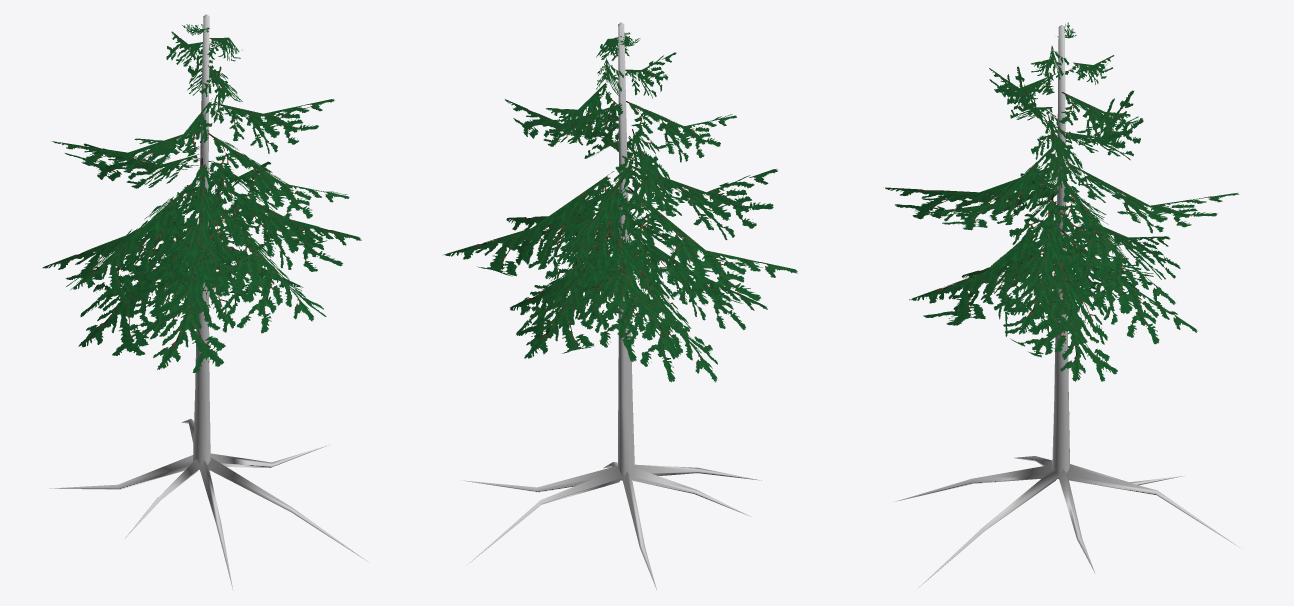
File: Pine_6_LOD1.fbx
3 renders of one model, left to right at view 1: azimuth 30°, elevation 25°; view 2: azimuth 150°, elevation 25°; view 3: azimuth 270°, elevation 25°, orthographic.
Visible parts, largest first — view 1: Tree_1, Tree_0; view 2: Tree_1, Tree_0; view 3: Tree_1, Tree_0.
Boxes of the visible parts, x1,y1,x2,y2 form: Tree_1: [42, 24, 361, 372]; Tree_0: [49, 14, 367, 590]; Tree_1: [443, 32, 797, 382]; Tree_0: [461, 22, 761, 589]; Tree_1: [885, 22, 1239, 381]; Tree_0: [894, 25, 1239, 588].
Size of the model in its own units: 53.78 by 72.47 by 52.96.
